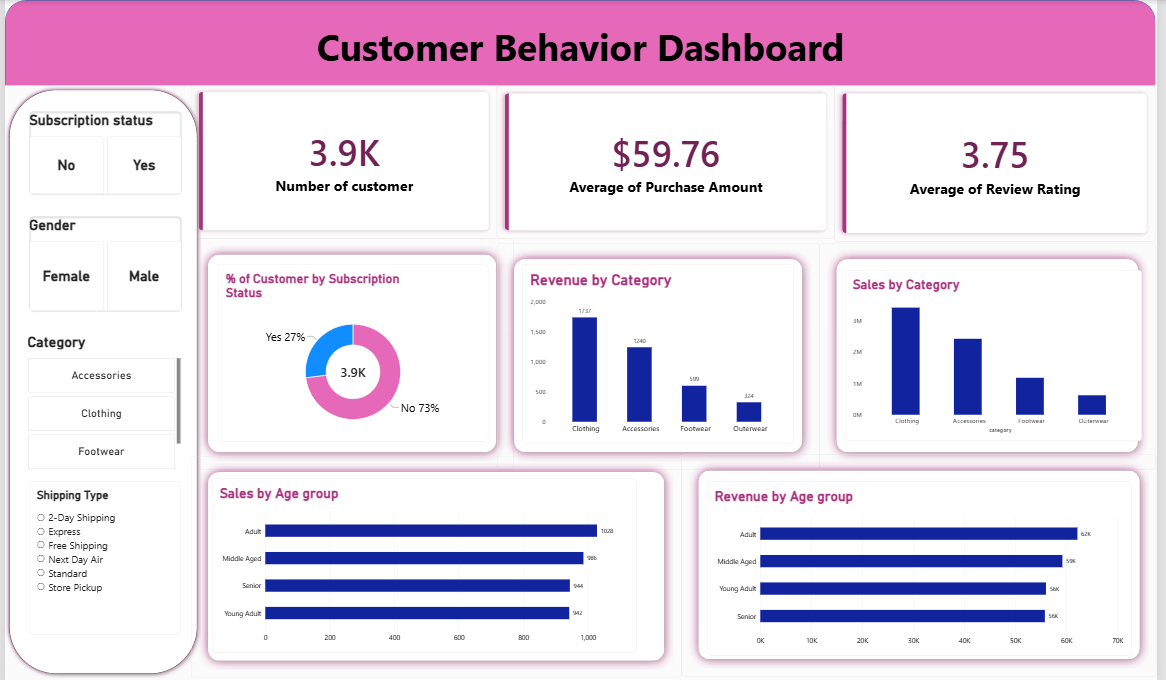

This screenshot's page, from the dashboard's own definition file:
{"tool":"powerbi","page":{"name":"Page 1","canvas":[2500,1500],"ordinal":0},"visuals":[{"type":"cardVisual","fields":{"Data":["updated_data.Average of Purchase Amount"]},"box":[1068,185.6,732.7,332.1],"z":0},{"type":"cardVisual","fields":{"Data":["updated_data.Average of Review Rating"]},"box":[1800.7,185.6,696.8,338.6],"z":1000},{"type":"cardVisual","fields":{"Data":["updated_data.Number of customer"]},"box":[403.8,182.3,664.3,335.4],"z":2000},{"type":"shape","box":[0,0,2497.5,185.6],"z":3000},{"type":"textbox","box":[0,44.3,2498.8,140.3],"z":4000},{"type":"shape","box":[403.8,517.7,700.1,501.5],"z":5000},{"type":"donutChart","title":"% of Customer by Subscription Status","fields":{"Category":["updated_data.subscription_status"],"Y":["CountNonNull(updated_data.customer_id)"]},"box":[462.4,573.1,586.8,385.5],"z":6000},{"type":"shape","box":[1768.1,527.5,729.4,491.7],"z":7000},{"type":"shape","box":[1068,527.5,700.1,491.7],"z":8000},{"type":"columnChart","title":"Revenue by Category","fields":{"Category":["updated_data.category"],"Y":["CountNonNull(updated_data.item_purchased)"]},"box":[1123.4,573.1,589.4,390.7],"z":9000},{"type":"columnChart","title":"Sales by Category","fields":{"Category":["updated_data.category"],"Y":["Sum(updated_data.customer_id)"]},"box":[1823.5,586.1,644.7,371.2],"z":10000},{"type":"shape","box":[0,185.6,426.6,1286.2],"z":11000},{"type":"advancedSlicerVisual","title":"Subscription status","fields":{"Values":["updated_data.subscription_status"]},"box":[52.1,241,332.1,182.3],"z":12000},{"type":"advancedSlicerVisual","title":"Gender","fields":{"Values":["updated_data.gender"]},"box":[52.1,468.9,332.1,208.4],"z":13000},{"type":"advancedSlicerVisual","title":"Category","fields":{"Values":["updated_data.category"]},"box":[48.8,722.9,332.1,296.3],"z":14000},{"type":"listSlicer","title":"Shipping Type","fields":{"Values":["updated_data.shipping_type"]},"box":[52.1,1045.2,328.9,332.1],"z":15000},{"type":"shape","box":[403.8,989.9,1064.8,481.9],"z":17000},{"type":"clusteredBarChart","title":"Sales by Age group","fields":{"Category":["updated_data.age_group"],"Y":["CountNonNull(updated_data.customer_id)"]},"box":[449.4,1038.7,921.5,377.7],"z":18000},{"type":"shape","box":[1468.6,986.6,1032.2,481.9],"z":19000},{"type":"clusteredBarChart","title":"Revenue by Age group","fields":{"Category":["updated_data.age_group"],"Y":["Sum(updated_data.purchase_amount)"]},"box":[1523.9,1045.2,921.5,377.7],"z":19001}]}

Visuals, with their boxes in screenshot pixels (x1, y1, x2, y2), scaled from the page's 2500x1500 canvas onto the 1166x680 screenshot:
cardVisual - updated_data.Average of Purchase Amount: box=[498, 84, 840, 235]
cardVisual - updated_data.Average of Review Rating: box=[840, 84, 1165, 238]
cardVisual - updated_data.Number of customer: box=[188, 83, 498, 235]
shape: box=[0, 0, 1165, 84]
textbox: box=[0, 20, 1165, 84]
shape: box=[188, 235, 515, 462]
"% of Customer by Subscription Status" donutChart: box=[216, 260, 489, 435]
shape: box=[825, 239, 1165, 462]
shape: box=[498, 239, 825, 462]
"Revenue by Category" columnChart: box=[524, 260, 799, 437]
"Sales by Category" columnChart: box=[850, 266, 1151, 434]
shape: box=[0, 84, 199, 667]
"Subscription status" advancedSlicerVisual: box=[24, 109, 179, 192]
"Gender" advancedSlicerVisual: box=[24, 213, 179, 307]
"Category" advancedSlicerVisual: box=[23, 328, 178, 462]
"Shipping Type" listSlicer: box=[24, 474, 178, 624]
shape: box=[188, 449, 685, 667]
"Sales by Age group" clusteredBarChart: box=[210, 471, 639, 642]
shape: box=[685, 447, 1165, 666]
"Revenue by Age group" clusteredBarChart: box=[711, 474, 1141, 645]
